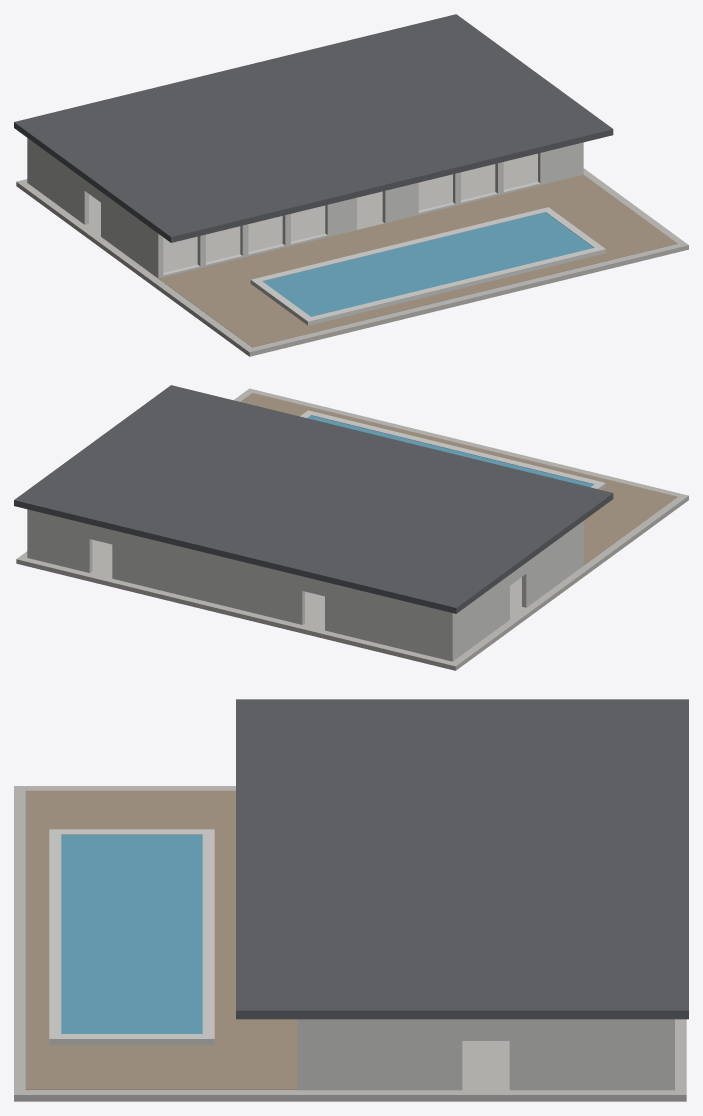
File: condo-club.zfix-v2.lod1.glb
3 views of the same model, one above another, from view 1: azimuth 30°, elevation 25°; view 2: azimuth 150°, elevation 25°; view 3: azimuth 270°, elevation 25° (orthographic). The views are drawn at different scales.
Parts seen in each view (by area): view 1: condo-club; view 2: condo-club; view 3: condo-club.
Part boxes in pixels (x1,y1,x2,y2): condo-club: [14, 14, 688, 356]; condo-club: [14, 385, 688, 670]; condo-club: [14, 699, 688, 1101].
Size of the model in its own units: 31.2 by 4.3 by 28.6.
